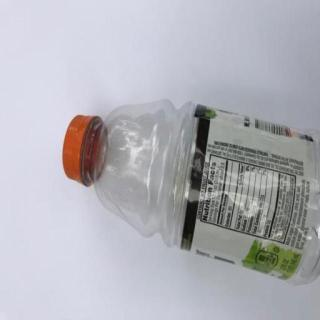Plastic-bottle: (63, 97, 320, 287)
